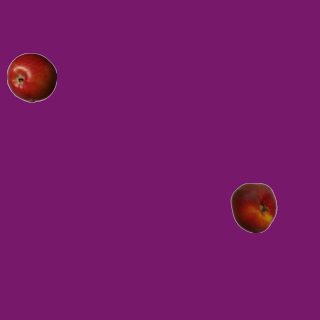Apple Braeburn: (6, 52, 56, 102)
Nectarine Flat: (228, 182, 278, 232)
